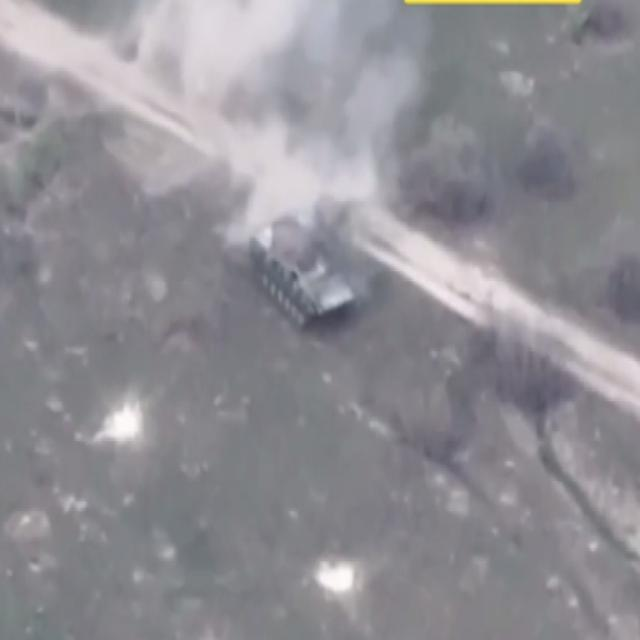APC-IFV: (242, 213, 358, 331)
